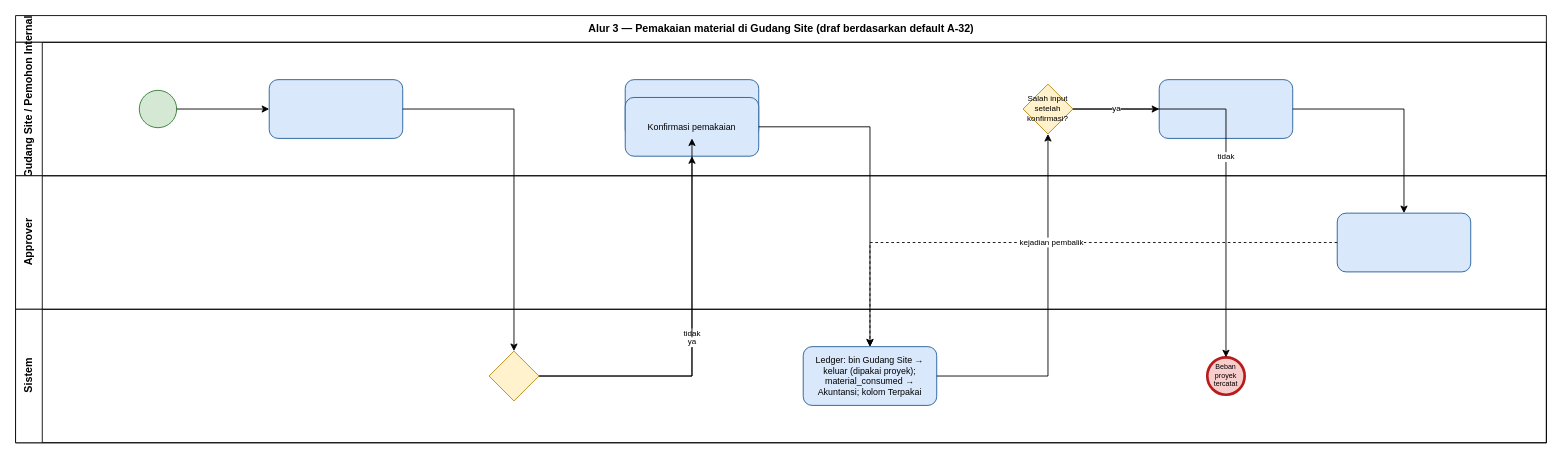
This 1562x458 diagram has some shape labels left out. The shapes that lost their labels are listed below. From the top down, each one's centre as x and y in pixels, then its label:
At pixel 157 108: "Material dipakai di proyek".
At pixel 335 108: "Buat ISU: proyek, item habis pakai, jumlah, (foto)".
At pixel 1225 108: "Buat ISU pembalik (jumlah negatif, alasan)".
At pixel 1403 242: "Setujui ISU pembalik".
At pixel 513 375: "Stok tersedia di Gudang Site cukup & bin tidak dibeku?".
